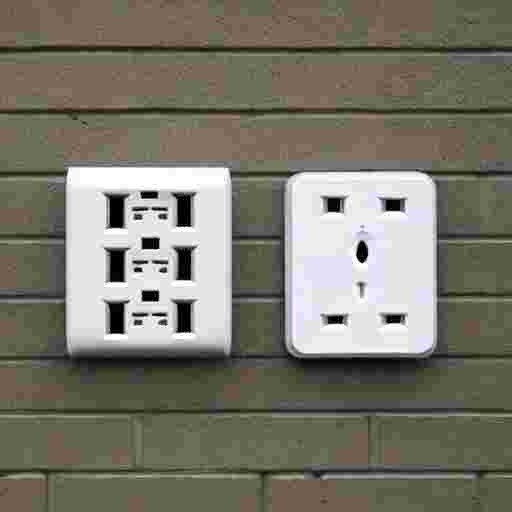power outlet: (66, 165, 231, 357), (285, 171, 436, 357)
